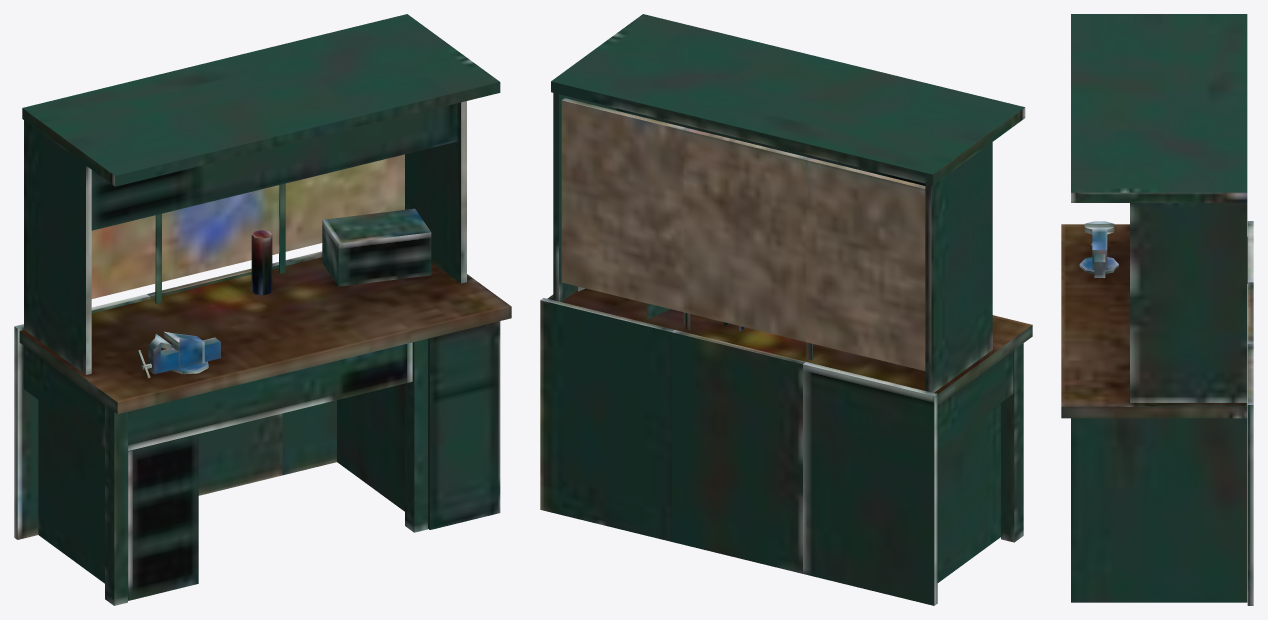
The model's file is workbench_t3_textured.glb.
3 views of the same model, side by side, from view 1: azimuth 30°, elevation 25°; view 2: azimuth 150°, elevation 25°; view 3: azimuth 270°, elevation 25° (orthographic). The views are drawn at different scales.
Parts seen in each view (by area): view 1: Cube.013; view 2: Cube.013; view 3: Cube.013.
Part boxes in pixels (left/top/right/bottom): Cube.013: left=14, top=14, right=511, bottom=605; Cube.013: left=540, top=14, right=1032, bottom=605; Cube.013: left=1061, top=14, right=1253, bottom=605.
Bounding box in the file's own units: 1.44 × 1.49 × 0.6348.
Materials: 1 (1 with a texture image).
